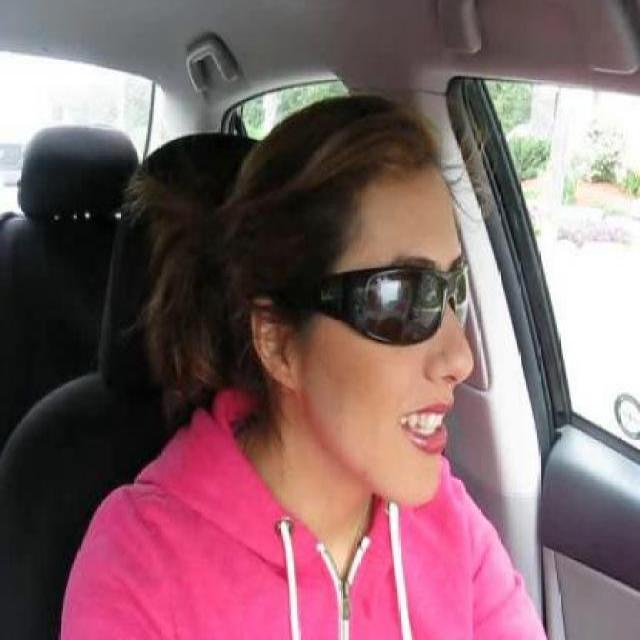no-seatbelt: (105, 453, 532, 640)
